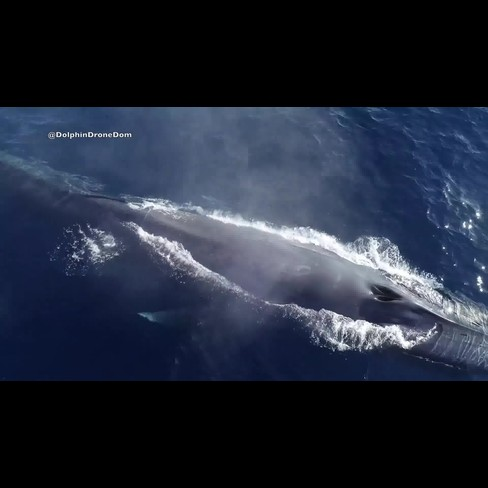bluewhale: (1, 144, 488, 378)
